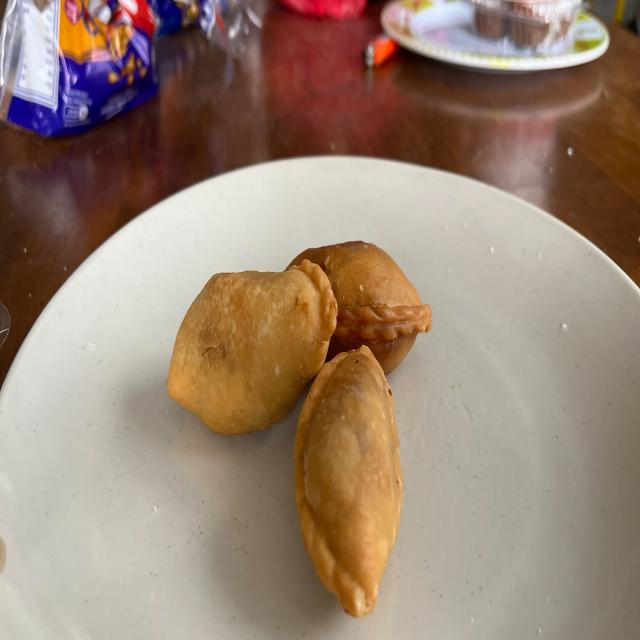karipap: (168, 260, 338, 433), (294, 347, 402, 618), (291, 240, 431, 373)
